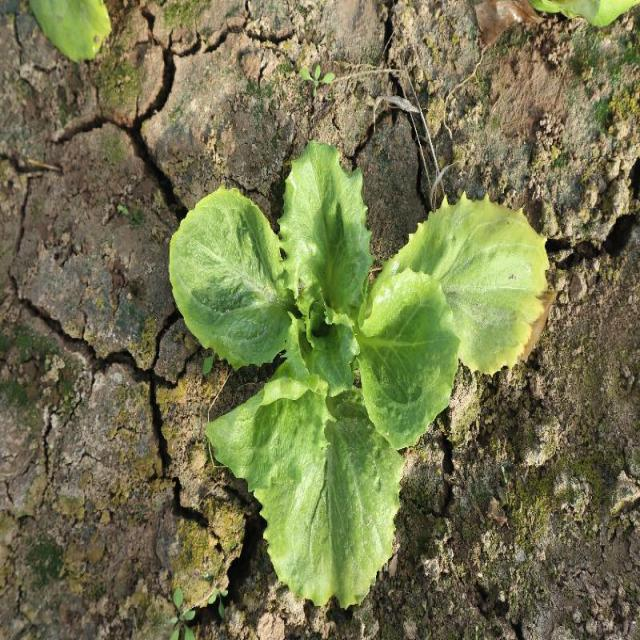crop: (166, 142, 551, 612)
